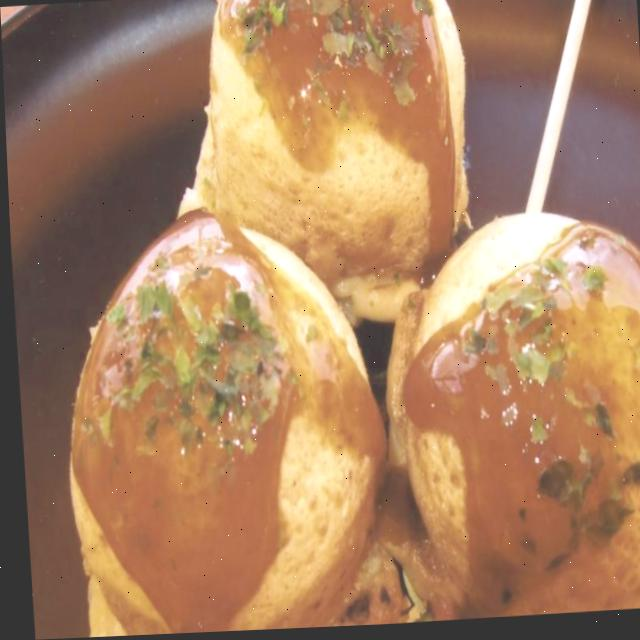炸货点心: (28, 0, 640, 639)
